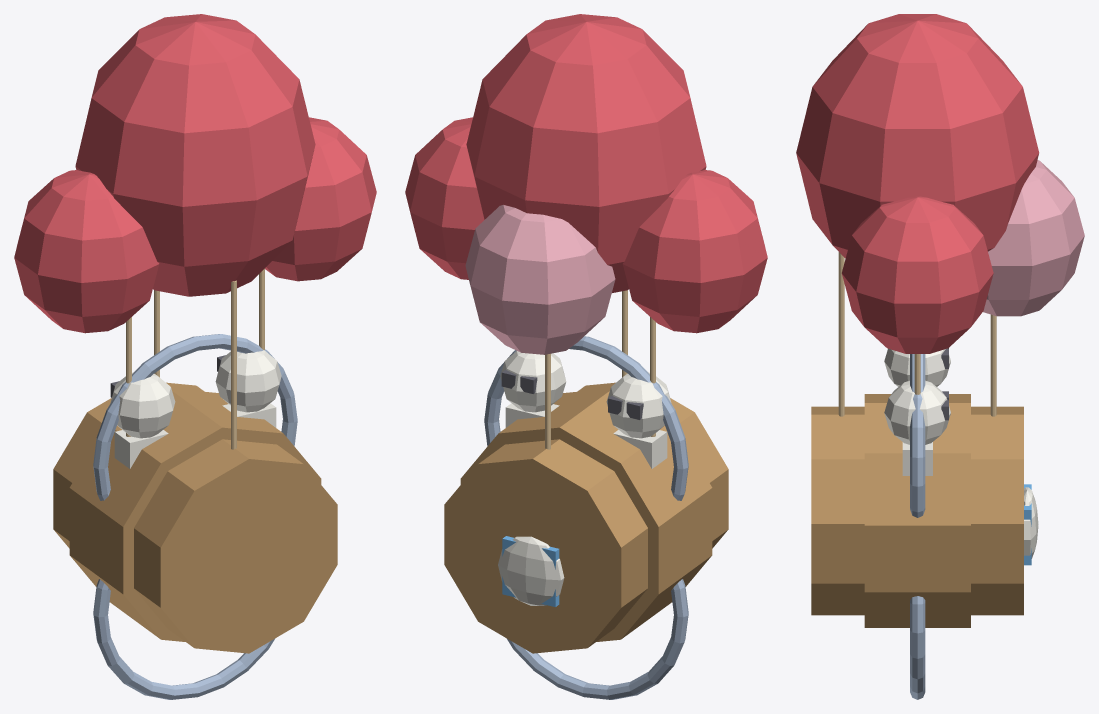
File: skeleton_barrel.glb
3 renders of one model, left to right at view 1: azimuth 30°, elevation 25°; view 2: azimuth 150°, elevation 25°; view 3: azimuth 270°, elevation 25°, orthographic.
Parts seen in each view (by area): view 1: skeleton_barrel; view 2: skeleton_barrel; view 3: skeleton_barrel.
Part boxes in pixels (bbox=[...]): skeleton_barrel: bbox=[14, 14, 376, 699]; skeleton_barrel: bbox=[405, 14, 767, 699]; skeleton_barrel: bbox=[796, 14, 1084, 699].
Bounding box in the file's own units: 2.55 × 4.86 × 1.9.
